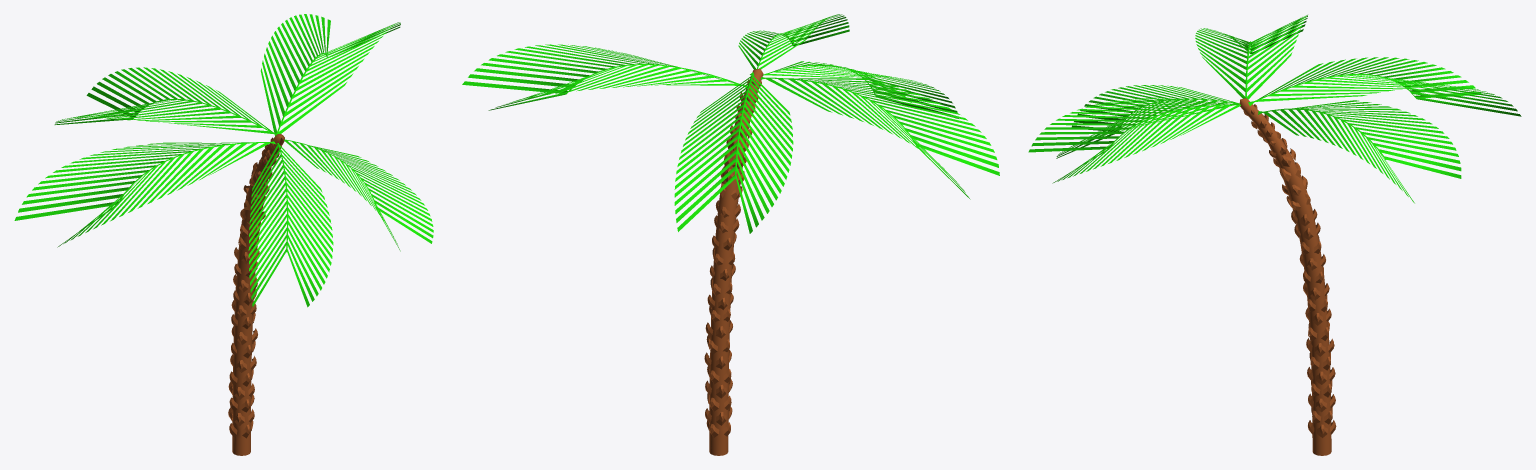
File: Palmera.glb
3 views of the same model, side by side, from view 1: azimuth 30°, elevation 25°; view 2: azimuth 150°, elevation 25°; view 3: azimuth 270°, elevation 25° (orthographic). The views are drawn at different scales.
Parts seen in each view (by area): view 1: BezierCurve.003, BezierCurve; view 2: BezierCurve.003, BezierCurve; view 3: BezierCurve.003, BezierCurve.
Boxes of the visible parts, left/top/right/bottom form: BezierCurve.003: left=14, top=14, right=433, bottom=307; BezierCurve: left=228, top=134, right=284, bottom=455; BezierCurve.003: left=462, top=14, right=999, bottom=233; BezierCurve: left=704, top=68, right=763, bottom=455; BezierCurve.003: left=1028, top=15, right=1521, bottom=203; BezierCurve: left=1239, top=98, right=1336, bottom=455.
Size of the model in its own units: 2.25 by 1.8 by 2.13.
